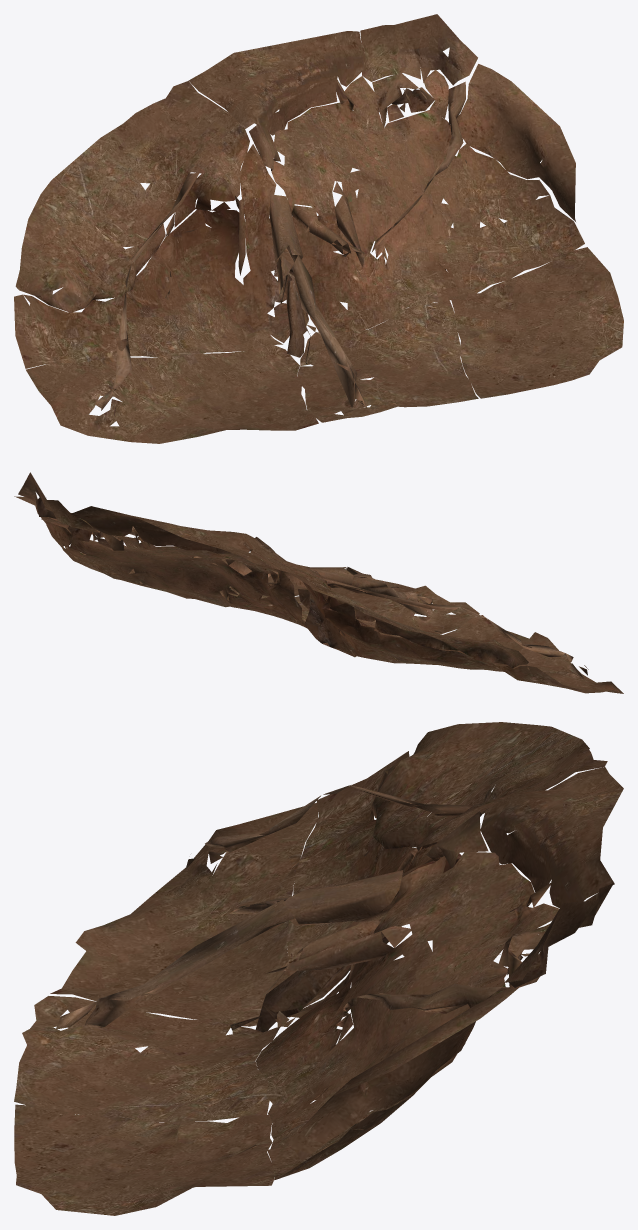
File: root_cluster_01.glb
3 renders of one model, top to bottom at view 1: azimuth 30°, elevation 25°; view 2: azimuth 150°, elevation 25°; view 3: azimuth 270°, elevation 25°, orthographic. The views are drawn at different scales.
Parts seen in each view (by area): view 1: lod0; view 2: lod0; view 3: lod0.
Part boxes in pixels (x1=…): lod0: x1=14, y1=14, x2=623, y2=443; lod0: x1=14, y1=472, x2=623, y2=693; lod0: x1=14, y1=722, x2=623, y2=1215.
Size of what is drawn, in the model's own units: 4.13 by 1.52 by 2.68.
1 material, 1 textured.
